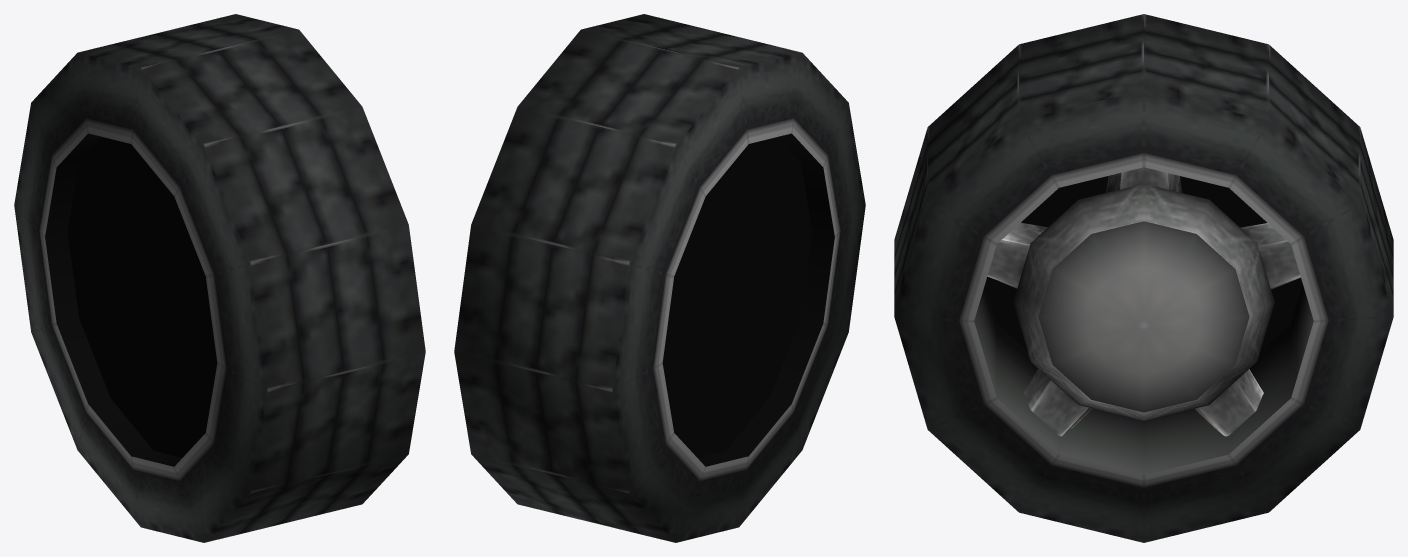
Rendered from DefaultWheel_primo.glb.
3 renders of one model, left to right at view 1: azimuth 30°, elevation 25°; view 2: azimuth 150°, elevation 25°; view 3: azimuth 270°, elevation 25°, orthographic.
Visible parts, largest first — view 1: wheel; view 2: wheel; view 3: wheel.
Boxes of the visible parts, x1,y1,x2,y2 form: wheel: (14, 14, 425, 542); wheel: (454, 14, 865, 542); wheel: (894, 14, 1393, 542).
Size of the model in its own units: 0.3011 by 0.7063 by 0.7063.
3 materials, 2 textured.
